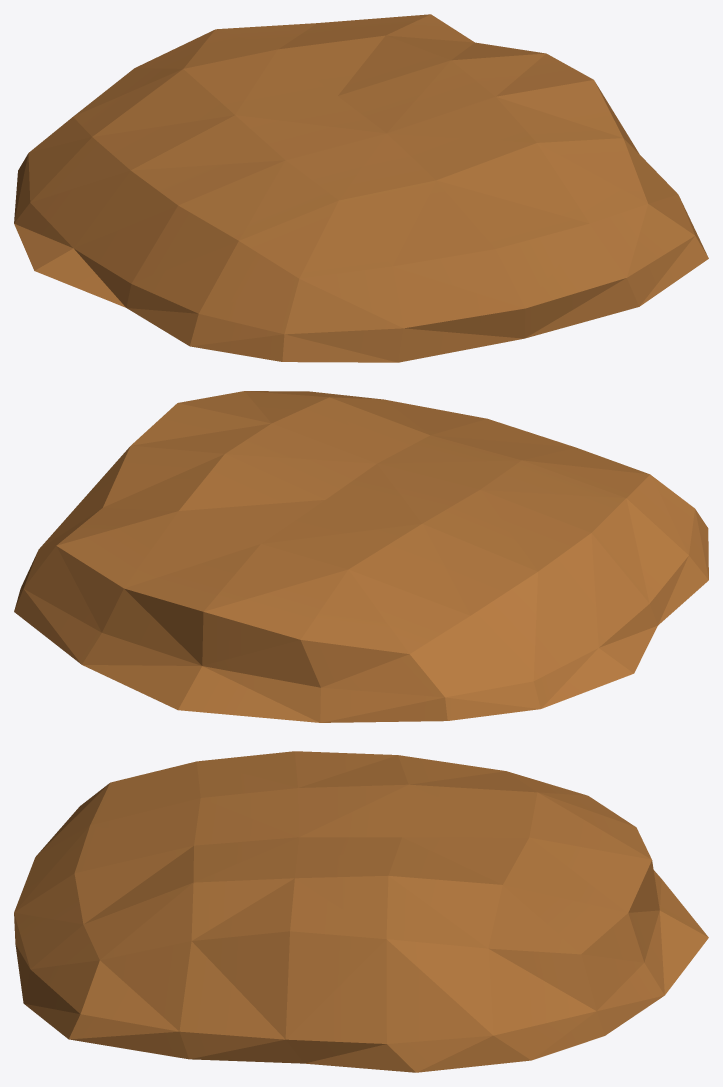
The model's file is Soil_Patch_03.fbx.
3 views of the same model, one above another, from view 1: azimuth 30°, elevation 25°; view 2: azimuth 150°, elevation 25°; view 3: azimuth 270°, elevation 25° (orthographic). The views are drawn at different scales.
Parts seen in each view (by area): view 1: Soil_Patch_03; view 2: Soil_Patch_03; view 3: Soil_Patch_03.
Boxes of the visible parts, x1,y1,x2,y2 form: Soil_Patch_03: [14, 14, 708, 362]; Soil_Patch_03: [14, 391, 708, 722]; Soil_Patch_03: [14, 751, 708, 1072].
Bounding box in the file's own units: 2.77 × 0.5948 × 2.86.
